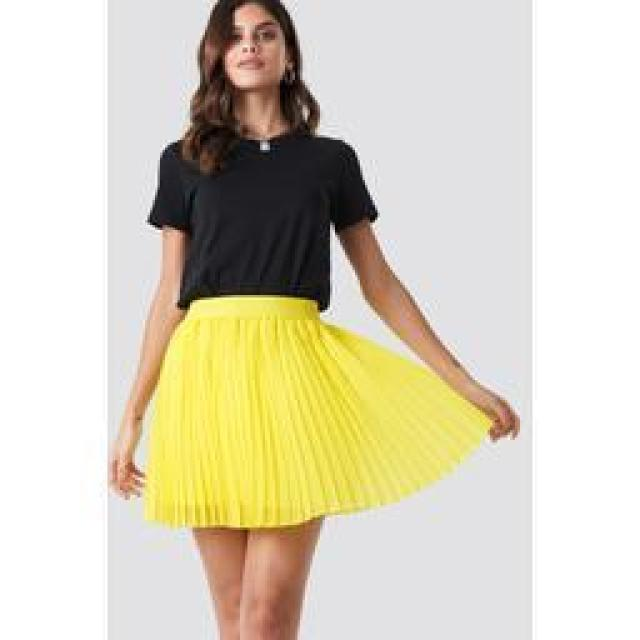Tshirt: (142, 120, 372, 308)
skirt: (144, 294, 496, 531)
